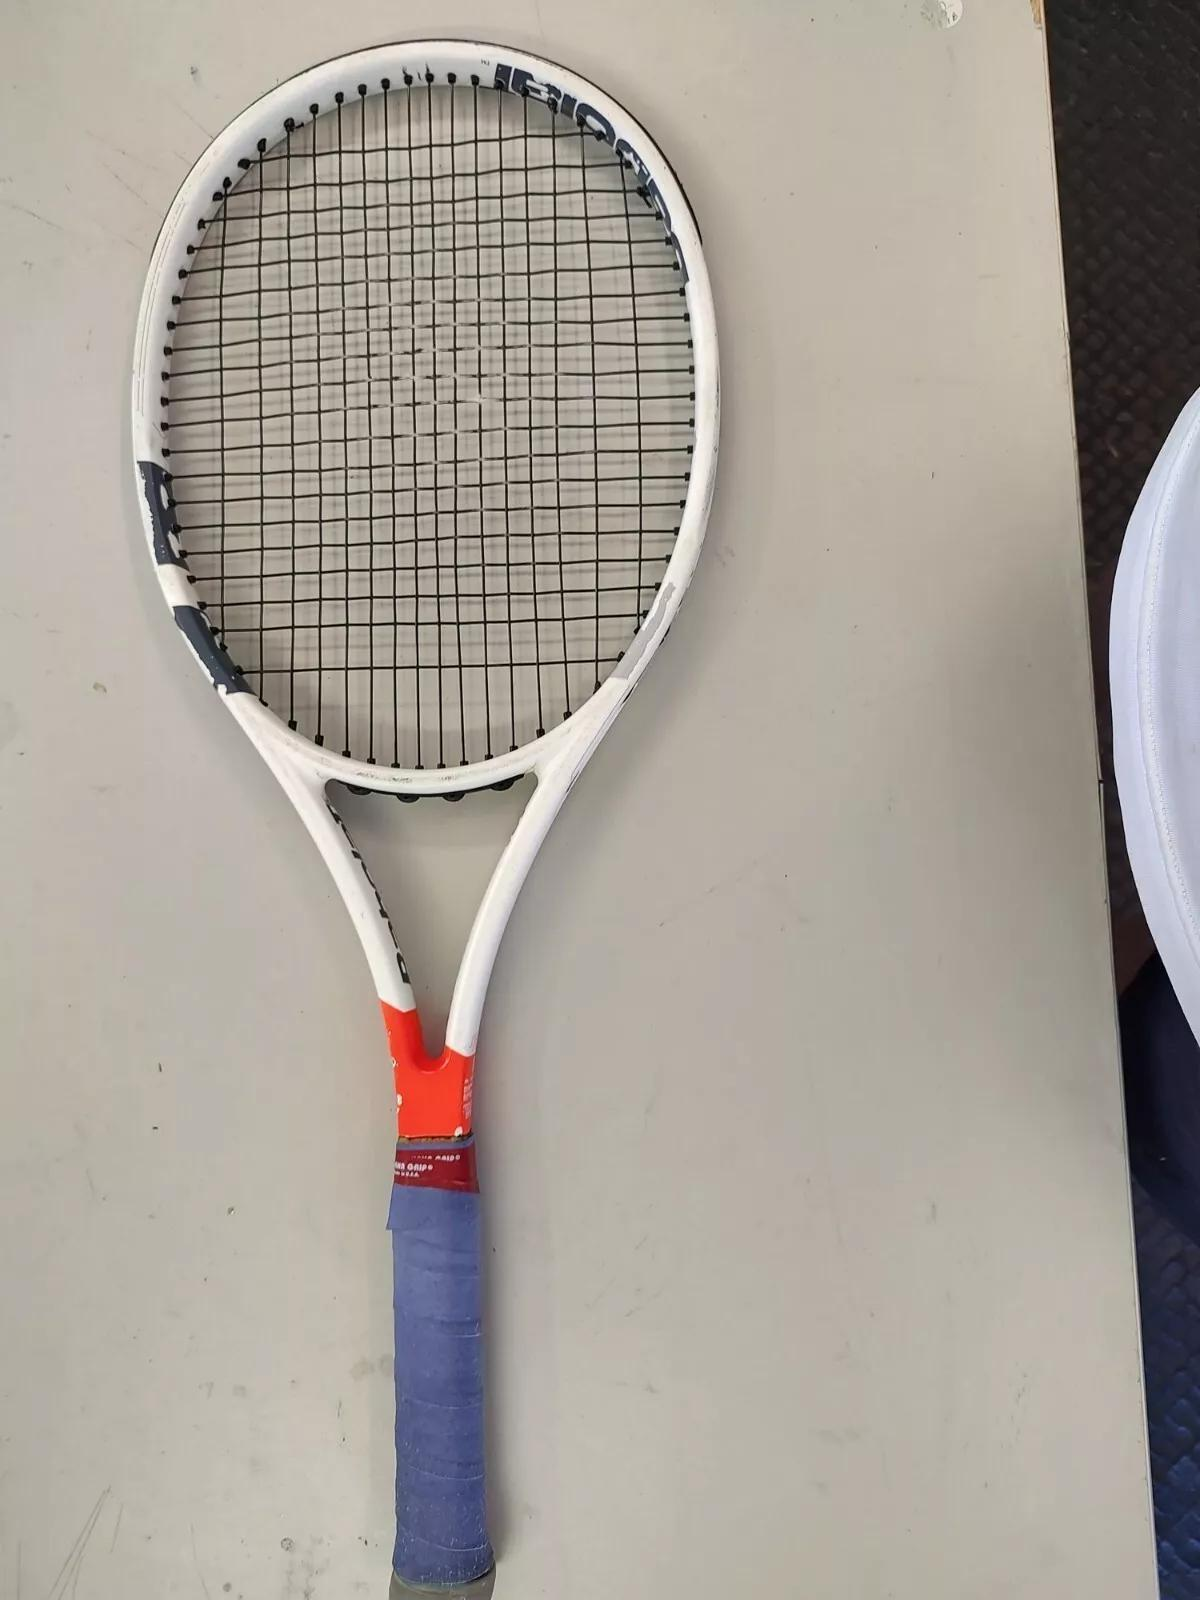Tennis-Racket: (131, 40, 718, 1587)
